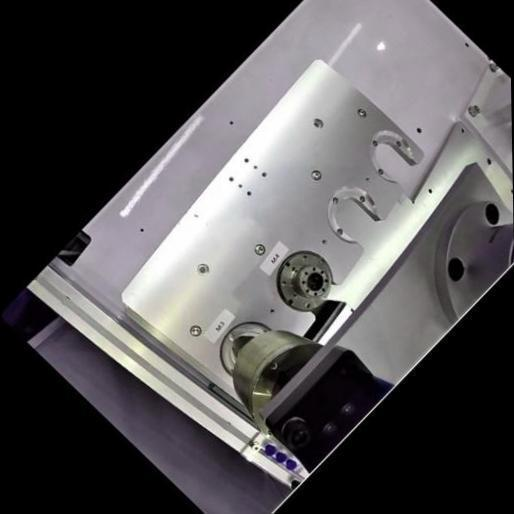hole: (191, 259, 211, 280), (308, 116, 324, 133)
